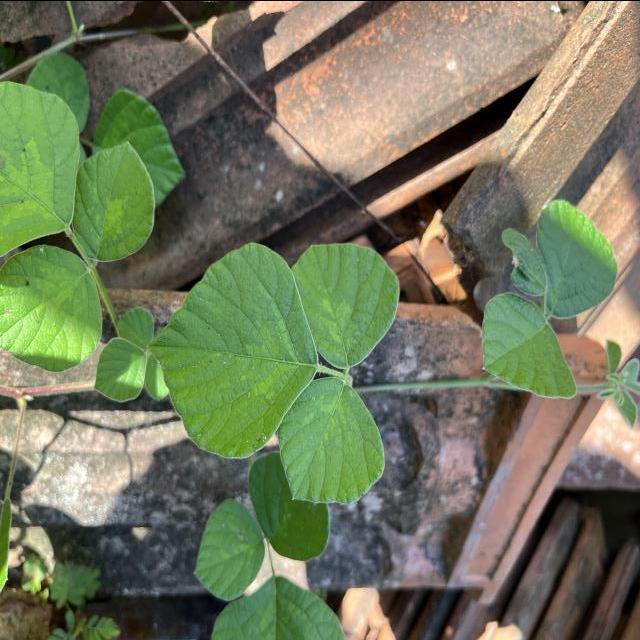Pseudarthria viscida: (143, 235, 404, 510)
